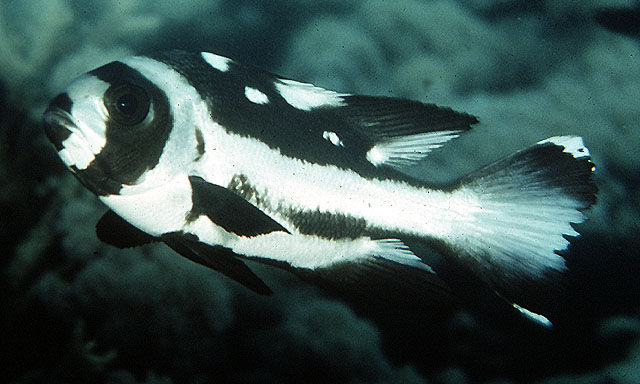fish: (43, 48, 599, 331)
